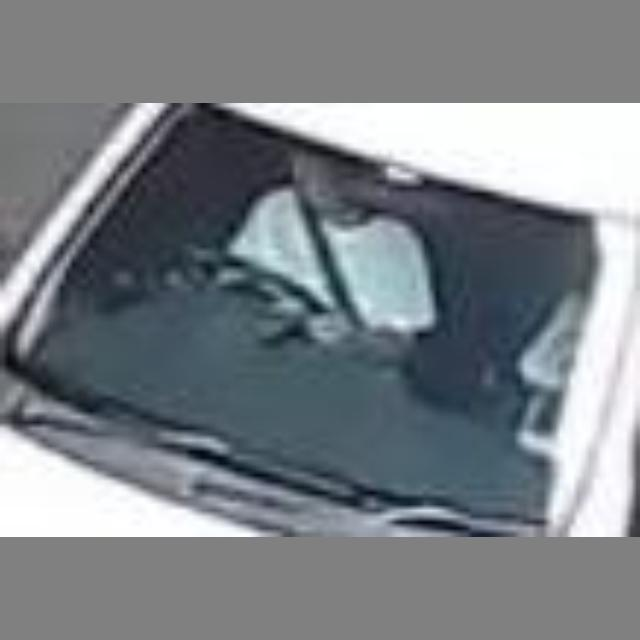pakai: (200, 162, 470, 385)
